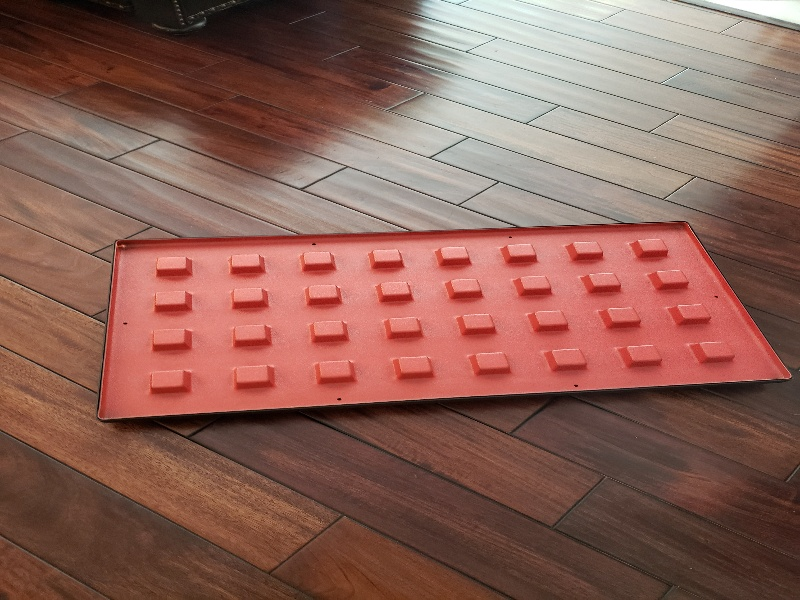ftc_base: (90, 216, 800, 424)
